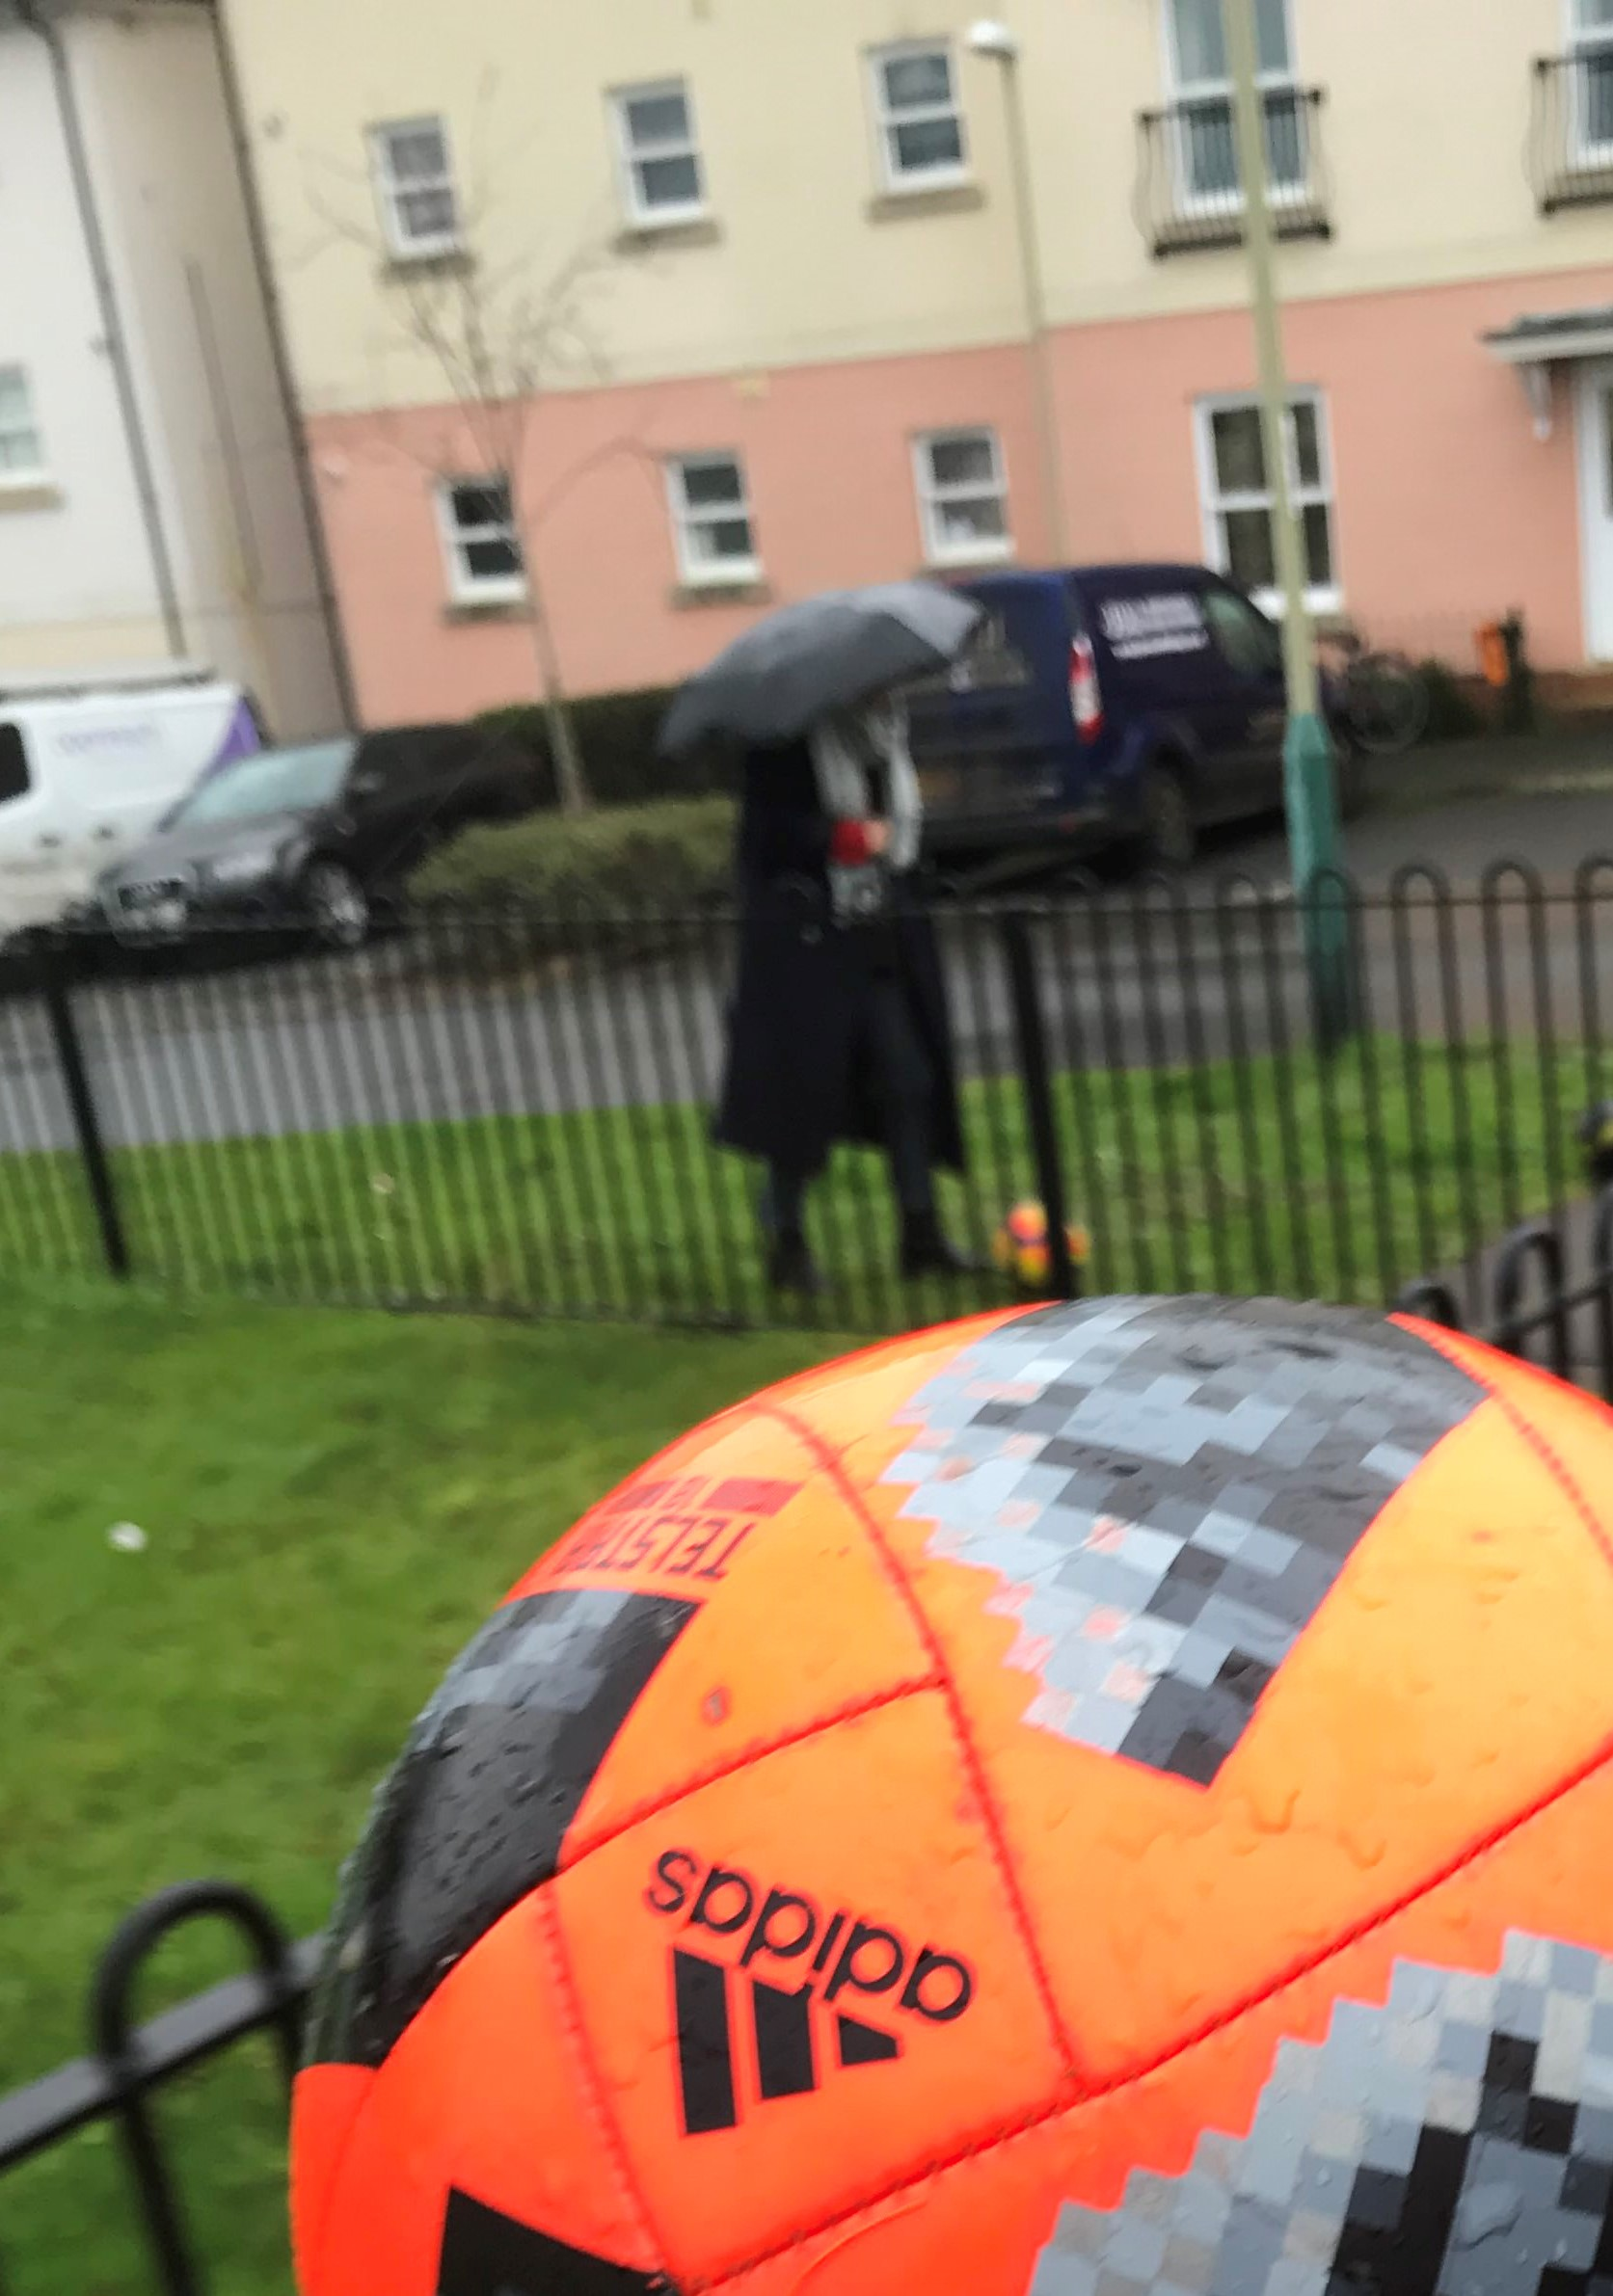football: (330, 1281, 1613, 2279)
